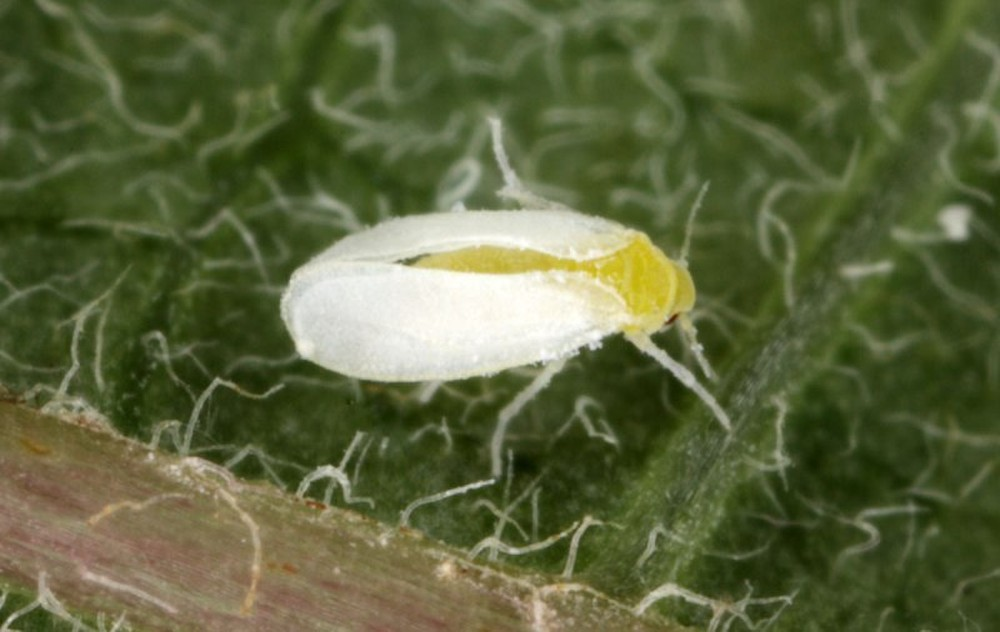Mosca Blanca: (282, 119, 744, 483)
